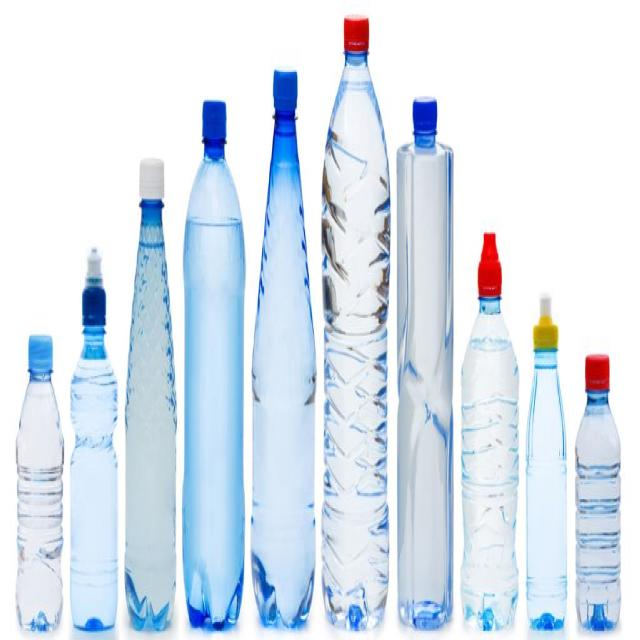bottle: (566, 348, 636, 639), (14, 323, 72, 636)
